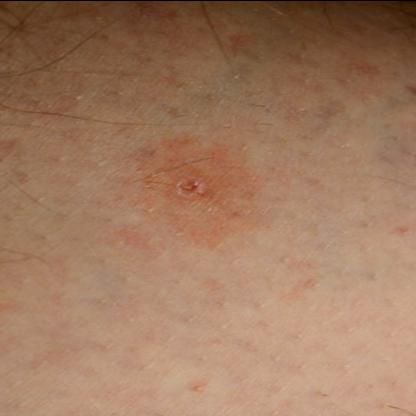Tick: (150, 165, 236, 211)
